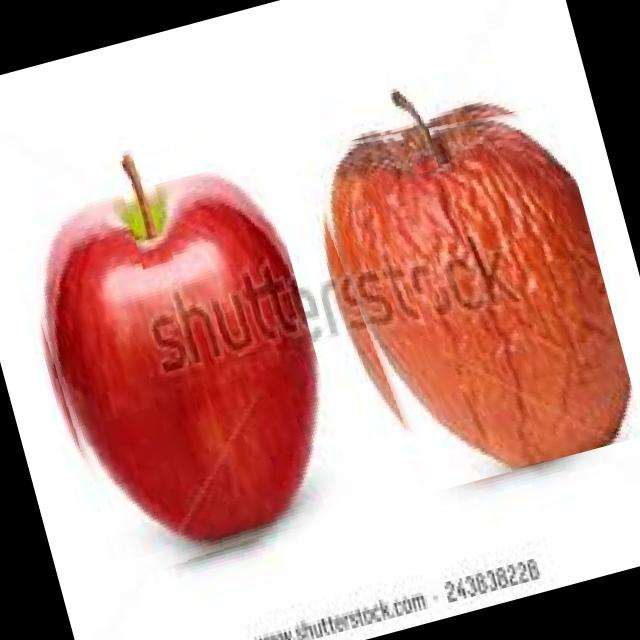Organic: (9, 155, 360, 586), (297, 82, 640, 502), (112, 145, 176, 270), (384, 77, 438, 176)
